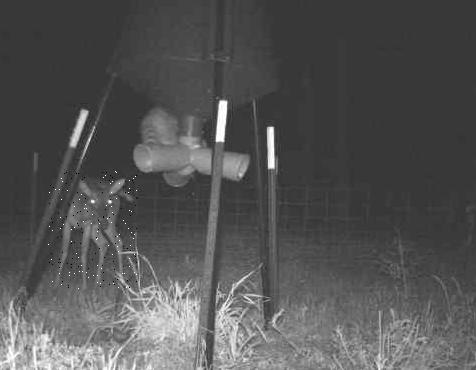Deer: (47, 171, 137, 289)
